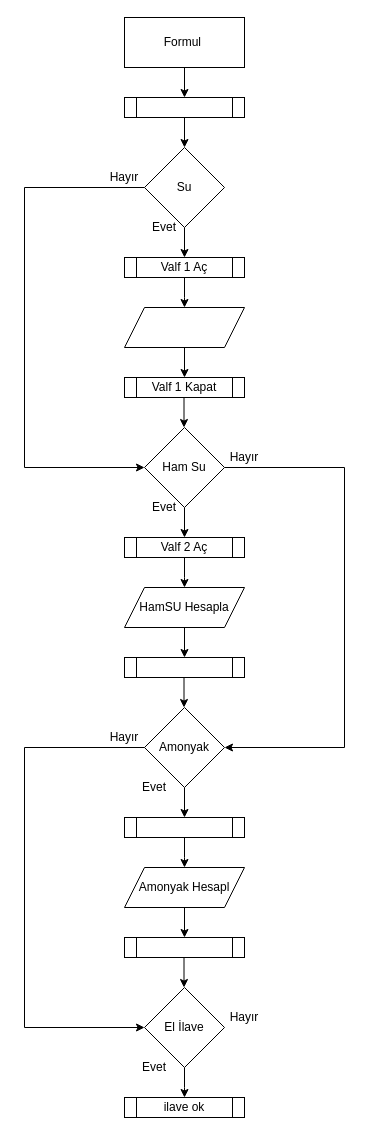
Some shapes in this 370 by 1135 pixel diagram are drawn without their labels. Here are the shapes that lost their labels. From the top down, the centre of each, then its label:
At point 184,107: "Başla".
At point 184,327: "Su Hesapla".
At point 184,667: "Valf 2 Kapat".
At point 184,827: "Valf 3 Aç".
At point 184,947: "Valf 3 Kapat".
